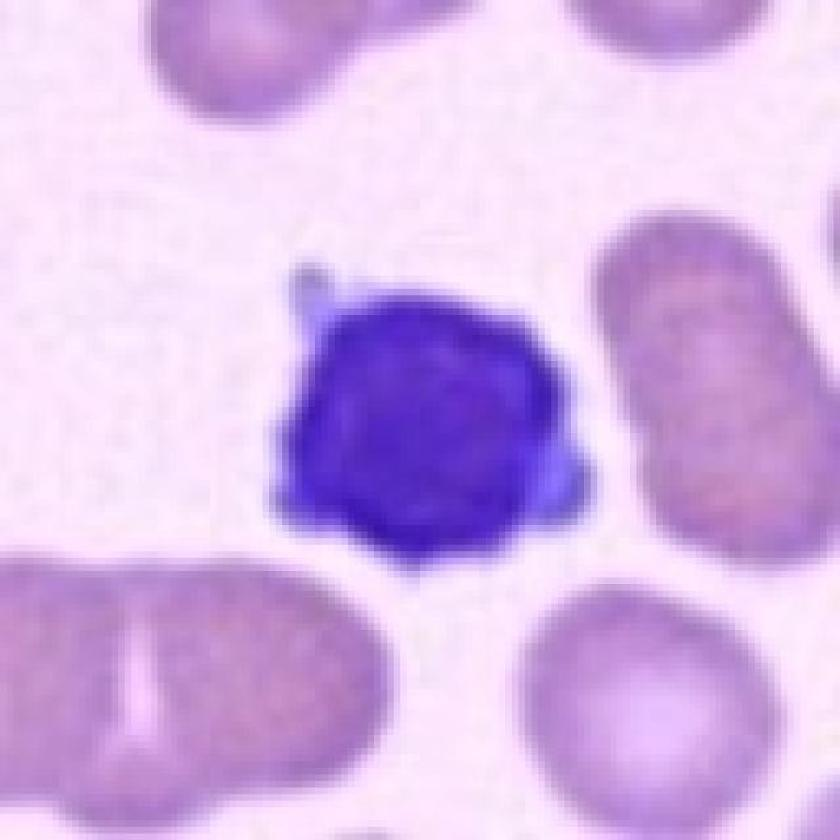lymphocyte: (257, 246, 603, 580)
